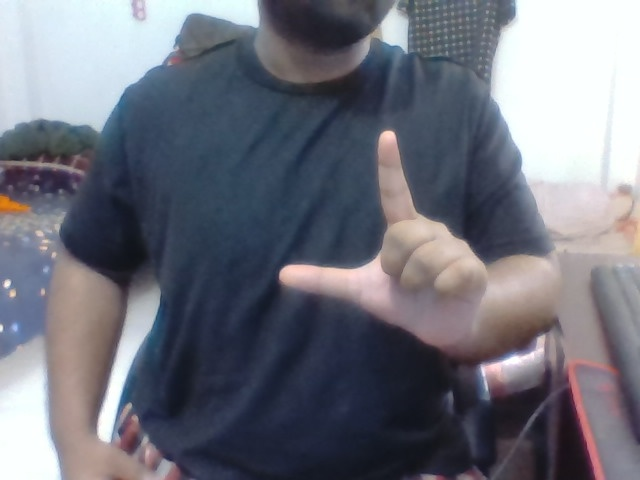L: (272, 124, 497, 353)
